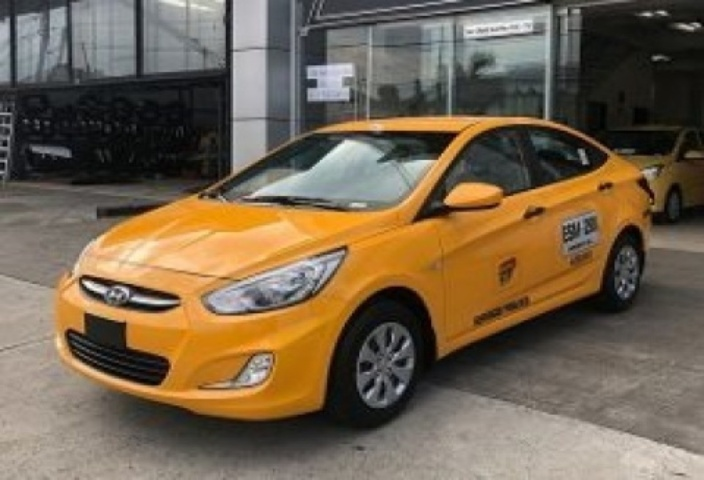taxi: (44, 100, 669, 439), (602, 108, 704, 220)
